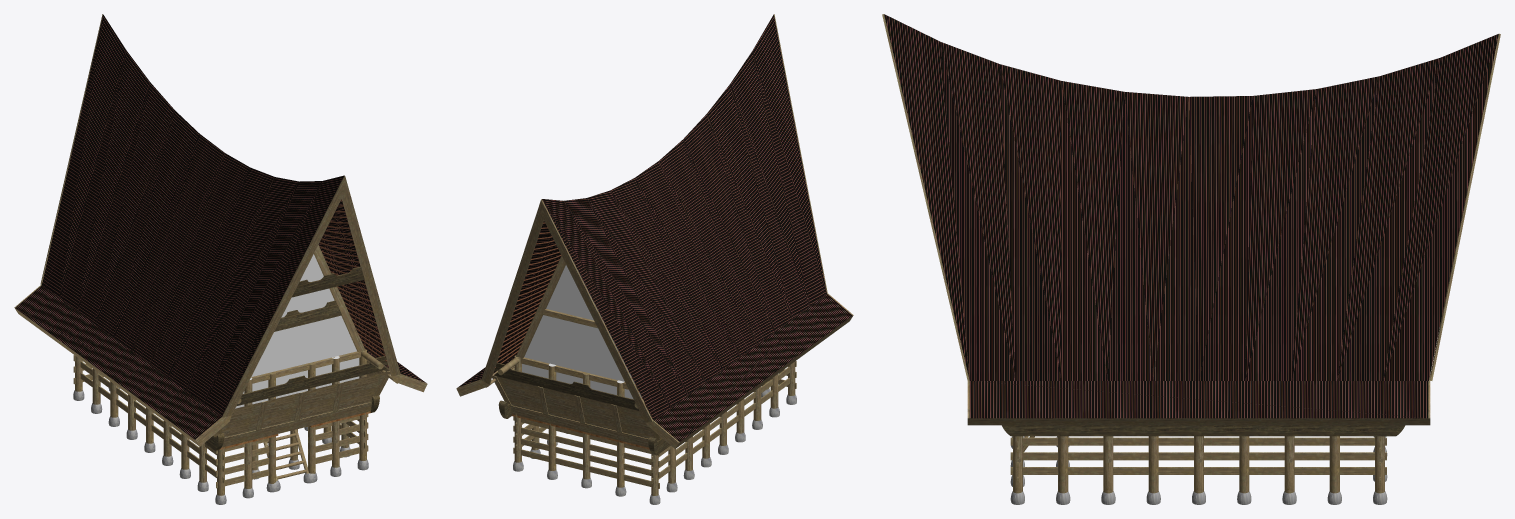
The model's file is rumah_batak_sumut.glb.
3 views of the same model, side by side, from view 1: azimuth 30°, elevation 25°; view 2: azimuth 150°, elevation 25°; view 3: azimuth 270°, elevation 25° (orthographic). The views are drawn at different scales.
Parts seen in each view (by area): view 1: _G-Object.022 (Loose Mesh), C-Tomboman, G-Object.116, G-Object.092, _G-Object.024 (Loose Mesh), G-2x8.002, G-2x8.004, C-Component#6.001, G-Object.066, G-Object.007, G-Object.008, G-Object.012 (+9 smaller); view 2: _G-Object.022 (Loose Mesh), C-Tomboman, G-Object.003, G-Object.092, _G-Object.024 (Loose Mesh), G-2x8.003, G-2x8.005, C-Component#6, G-Object.066, G-Object.058, C-Component#3.001, C-Component#3 (+8 smaller); view 3: _G-Object.024 (Loose Mesh), C-Tomboman.001, G-Intersection.003, C-Component#1.003, C-Component#1.004, C-Component#1.001, G-2x8.005, G-2x8.004.
Boxes of the visible parts, x1,y1,x2,y2 form: _G-Object.022 (Loose Mesh): (42,15,344,416); C-Tomboman: (14,284,231,446); G-Object.116: (235,254,359,408); G-Object.092: (221,362,387,447); _G-Object.024 (Loose Mesh): (318,199,386,358); G-2x8.002: (222,175,345,417); G-2x8.004: (342,177,400,376); C-Component#6.001: (236,356,388,406); G-Object.066: (319,199,387,365); G-Object.007: (274,300,341,331); G-Object.008: (291,266,364,297); G-Object.012: (314,245,365,356); _G-Object.022 (Loose Mesh): (542,14,826,420); C-Tomboman: (646,293,853,448); G-Object.003: (522,257,641,399); G-Object.092: (496,367,654,447); _G-Object.024 (Loose Mesh): (497,221,564,363); G-2x8.003: (541,199,652,422); G-2x8.005: (481,200,543,384); C-Component#6: (493,363,649,412); G-Object.066: (495,213,561,367); G-Object.058: (516,249,568,361); C-Component#3.001: (513,436,659,477); C-Component#3: (513,447,659,488); _G-Object.024 (Loose Mesh): (884,14,1498,380); C-Tomboman.001: (967,375,1430,425); G-Intersection.003: (1002,425,1405,436); C-Component#1.003: (1010,452,1386,460); C-Component#1.004: (1010,437,1386,445); C-Component#1.001: (1010,467,1386,474); G-2x8.005: (1430,33,1500,380); G-2x8.004: (882,14,969,380).
Size of the model in its own units: 8.48 by 12.17 by 15.38.
Materials: 7 (6 with a texture image).
